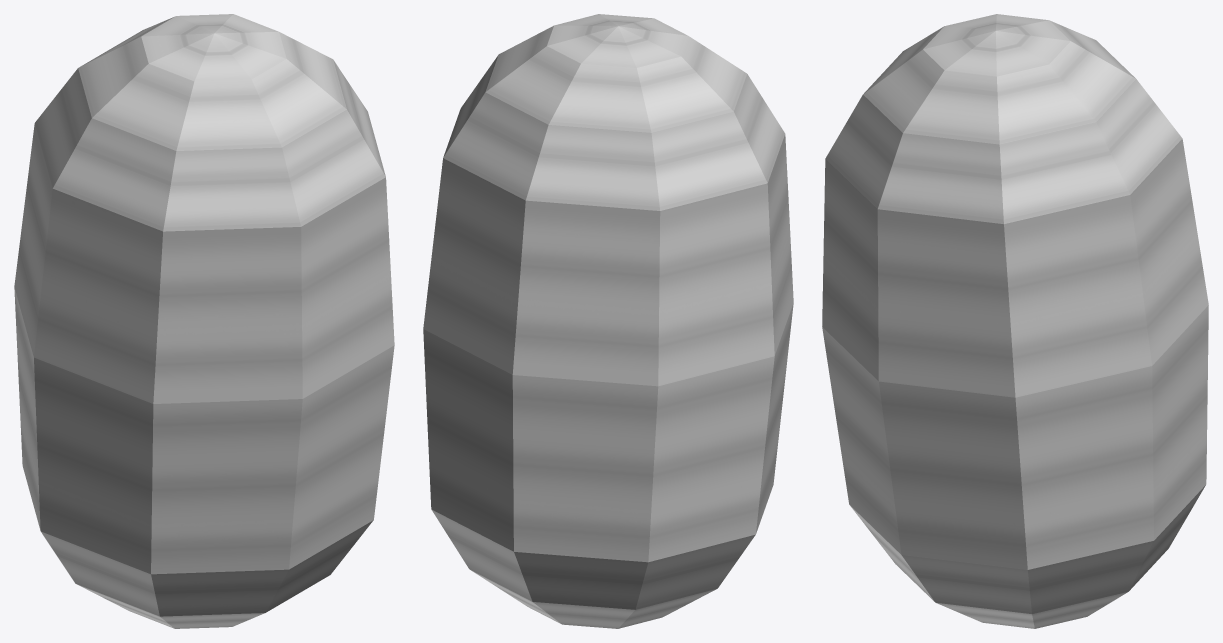
The model's file is cocoon_animation.fbx.
3 renders of one model, left to right at view 1: azimuth 30°, elevation 25°; view 2: azimuth 150°, elevation 25°; view 3: azimuth 270°, elevation 25°, orthographic. The views are drawn at different scales.
Parts seen in each view (by area): view 1: pasted__pSphere1; view 2: pasted__pSphere1; view 3: pasted__pSphere1.
Boxes of the visible parts, x1,y1,x2,y2 form: pasted__pSphere1: (14, 14, 394, 628); pasted__pSphere1: (423, 14, 793, 628); pasted__pSphere1: (822, 14, 1208, 628).
Size of the model in its own units: 1.36 by 2.25 by 1.36.
1 material, 1 textured.
